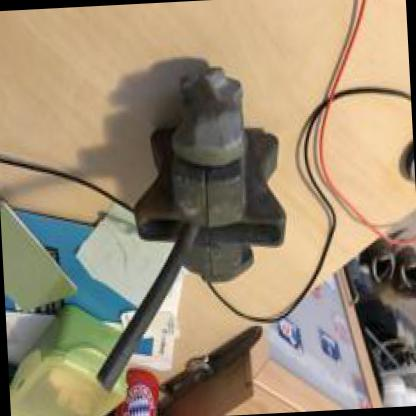Twistlock: (76, 53, 298, 396)
